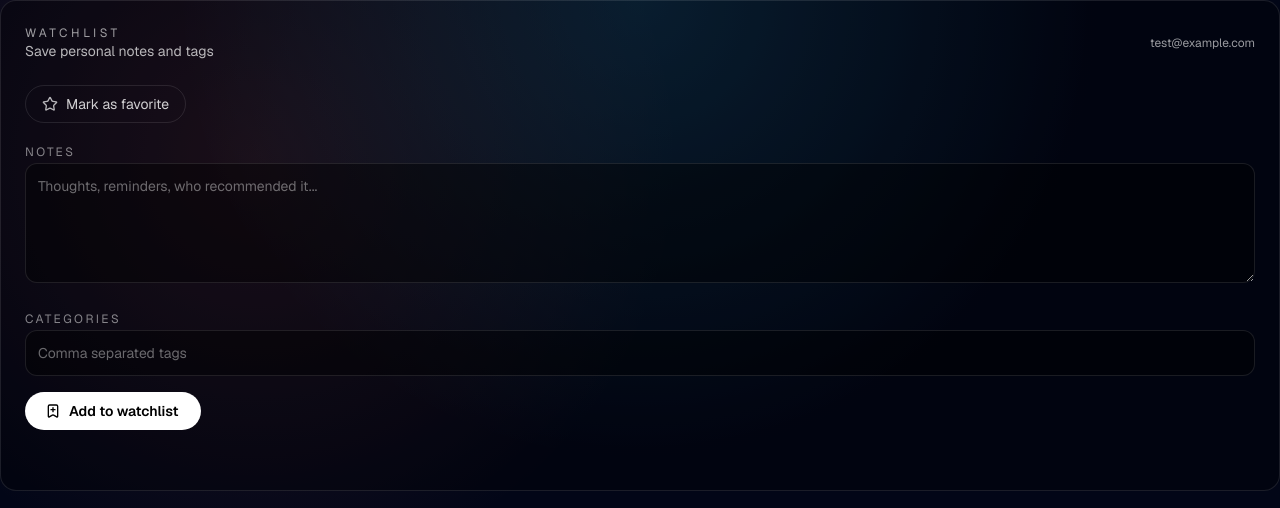
Test: WatchlistPanel › save operation › should handle save error
Click the button "Add to watchlist": [113, 411] box [25, 392, 201, 430]
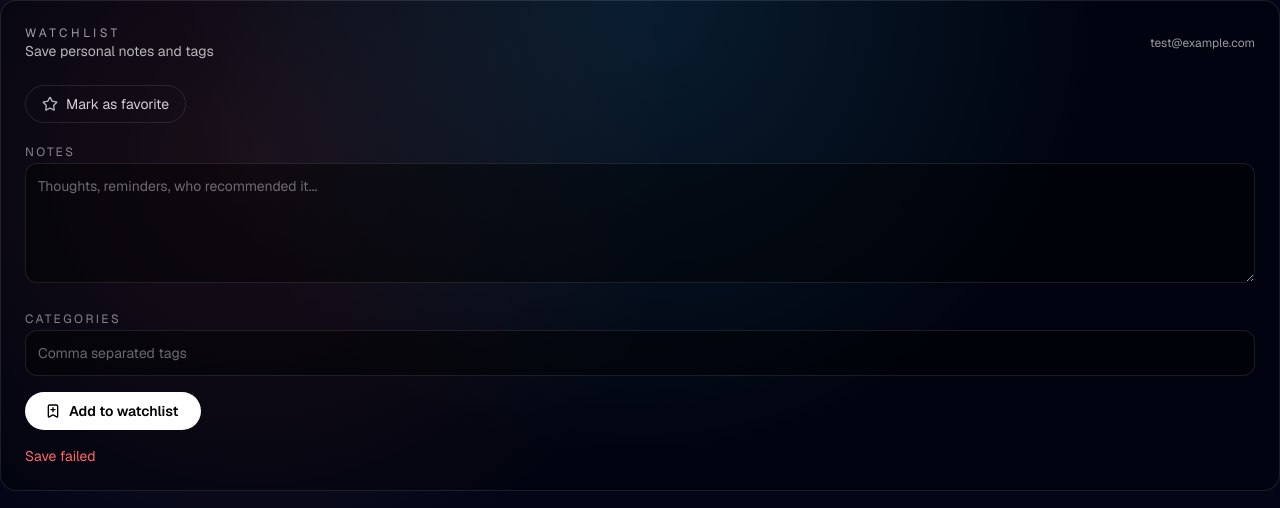
Result: the text "Save failed" is shown at [25, 447, 96, 465]
